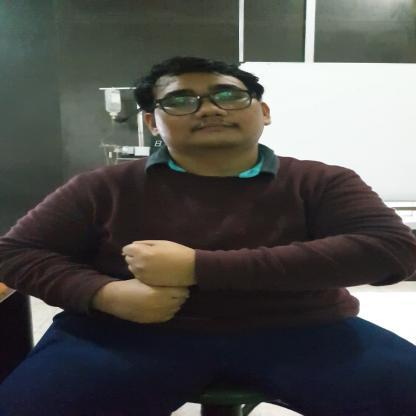G: (92, 235, 200, 328)
